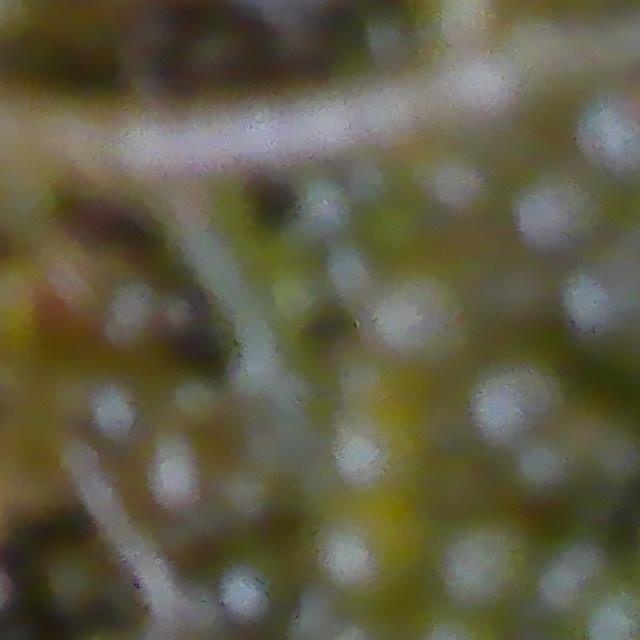SeaGrape: (355, 255, 480, 379), (310, 489, 424, 606), (501, 158, 608, 260), (431, 512, 534, 614), (404, 138, 502, 231), (469, 351, 567, 435), (535, 534, 609, 611), (572, 411, 640, 491)
